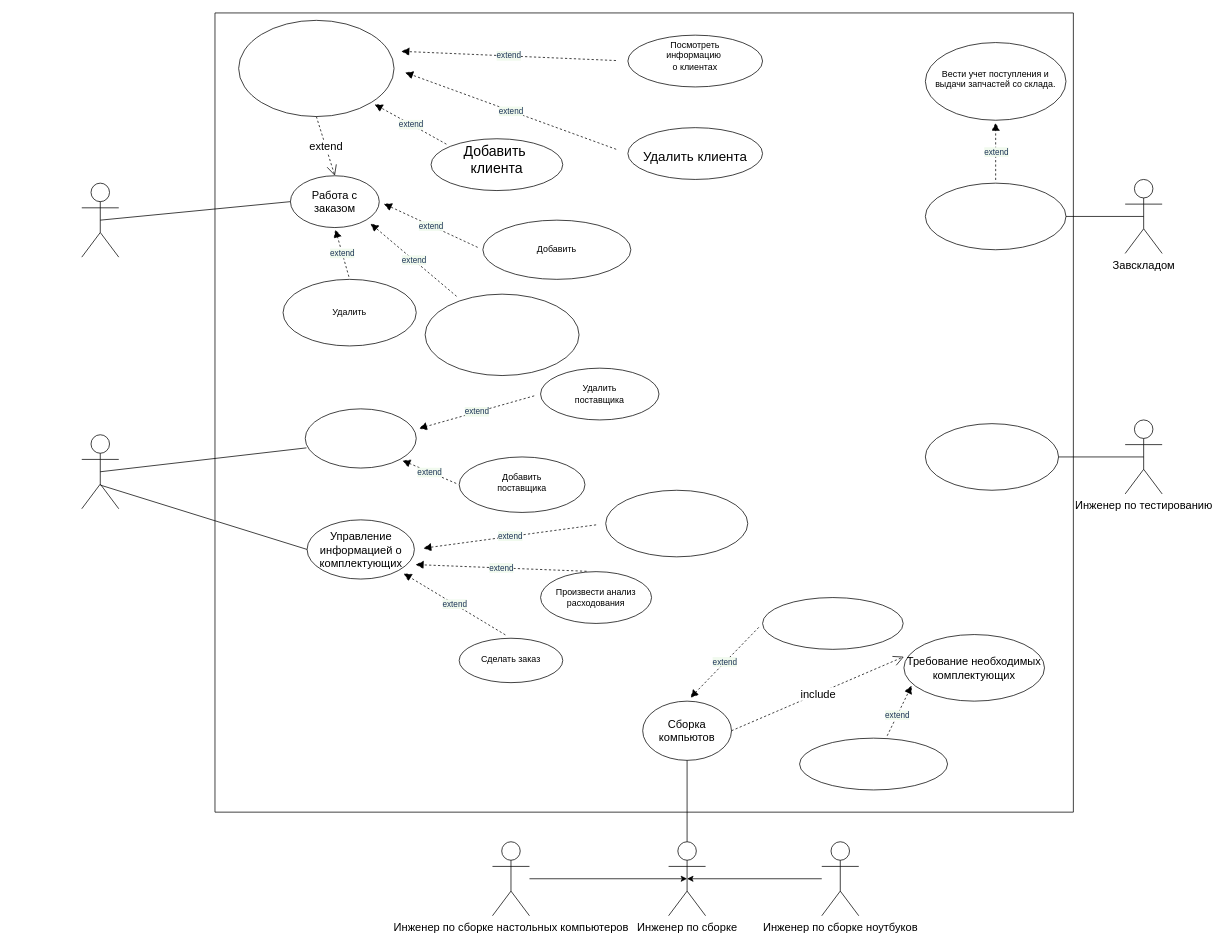
This 1225x947 diagram has some shape labels left out. Here are the shapes that lost their labels. From the top down, the centre of each, then its label:
At [316,68]: "Управление информацией о клиенте".
At [100,219]: "Менеджер по работе с клиентами".
At [995,216]: "Учет поступления и выдачи комлпектующих".
At [501,334]: "Изменить".
At [360,438]: "Управление информацией о поставщиках".
At [992,456]: "Тестирование компьютеров".
At [100,471]: "Менеджер по снабжению".
At [676,523]: "Посмотреть информацию и комплектующих".
At [832,623]: "Посмотреть наряды на сборку компьютера".
At [873,763]: "Отметить ход выполнения работ".
